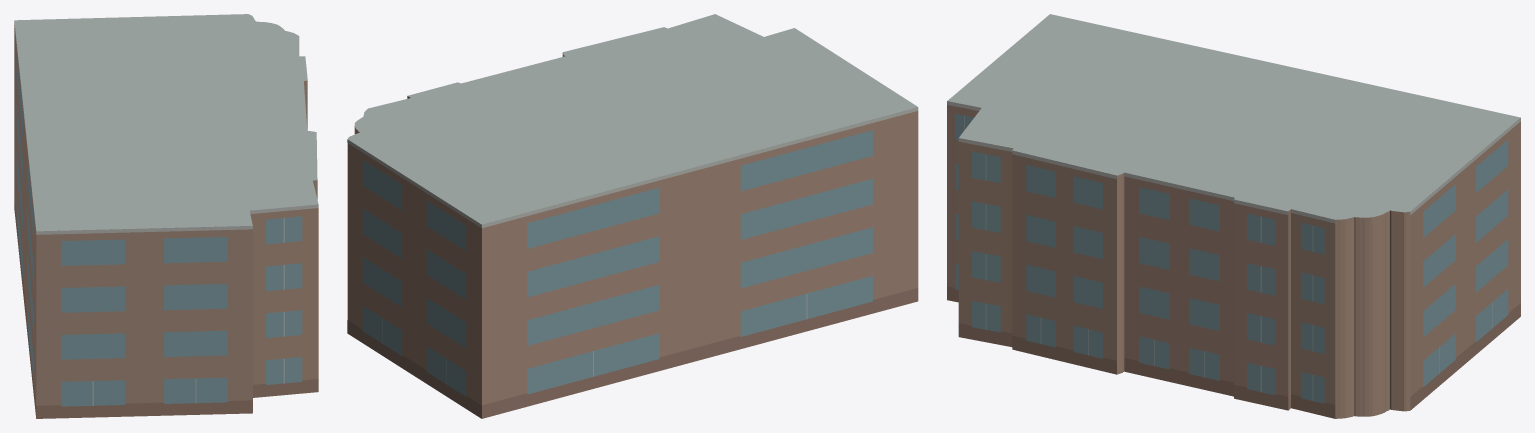
Rendered from survey-upis-32969207.glb.
The picture shows the model from 3 angles, left to right: view 1: azimuth 30°, elevation 25°; view 2: azimuth 150°, elevation 25°; view 3: azimuth 270°, elevation 25°; orthographic projection. The views are drawn at different scales.
Parts seen in each view (by area): view 1: survey-upis-32969207.tmp; view 2: survey-upis-32969207.tmp; view 3: survey-upis-32969207.tmp.
Part boxes in pixels (bbox=[...]): survey-upis-32969207.tmp: bbox=[14, 14, 318, 418]; survey-upis-32969207.tmp: bbox=[347, 14, 918, 418]; survey-upis-32969207.tmp: bbox=[947, 14, 1520, 418].
Bounding box in the file's own units: 28.77 × 12.97 × 33.88.
